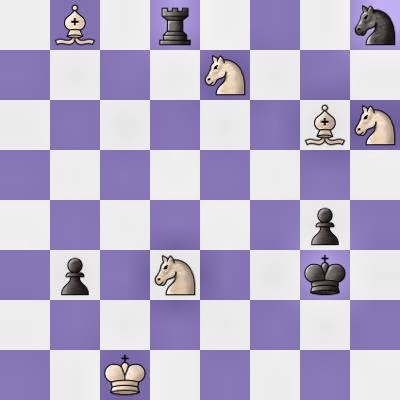black-king: (300, 250, 350, 300)
black-knight: (350, 0, 400, 50)
black-pawn: (300, 200, 350, 250), (50, 250, 100, 300)
black-rook: (150, 0, 200, 50)
white-bishop: (50, 0, 100, 50), (300, 100, 350, 150)
white-king: (100, 350, 150, 400)
white-knight: (200, 50, 250, 100), (350, 100, 400, 150), (150, 250, 200, 300)
